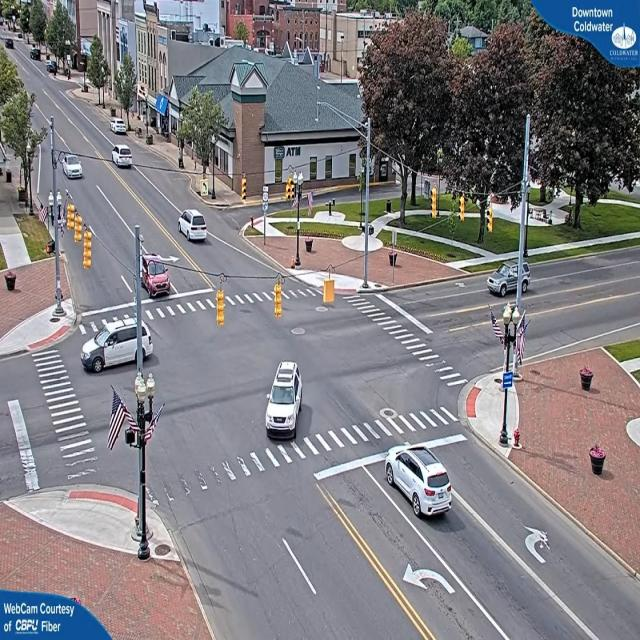car: (386, 445, 453, 519), (80, 316, 151, 376), (264, 362, 306, 442), (488, 259, 532, 299), (139, 245, 172, 297), (179, 210, 210, 244), (61, 154, 84, 180), (112, 146, 136, 170), (112, 120, 130, 136)
